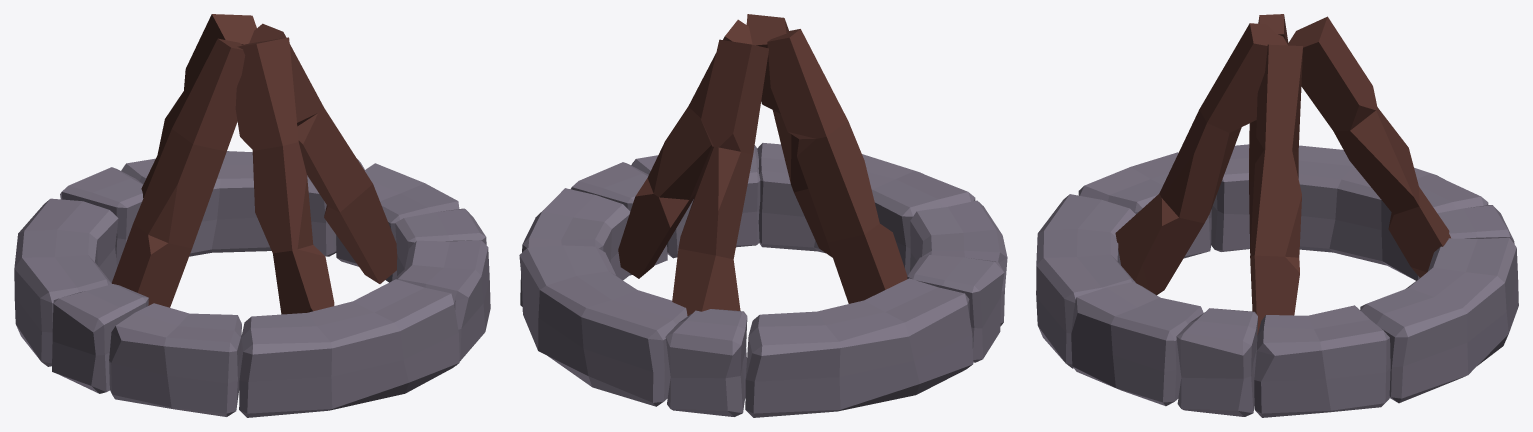
File: CAMPFIRE.fbx
The picture shows the model from 3 angles, left to right: view 1: azimuth 30°, elevation 25°; view 2: azimuth 150°, elevation 25°; view 3: azimuth 270°, elevation 25°; orthographic projection.
Visible parts, largest first — view 1: Cube.029; view 2: Cube.029; view 3: Cube.029.
Boxes of the visible parts, box(x1,y1,x2,y2) form: Cube.029: box(14, 14, 490, 417); Cube.029: box(519, 14, 1007, 417); Cube.029: box(1036, 14, 1518, 417).
Bounding box in the file's own units: 334 × 224 × 331.
